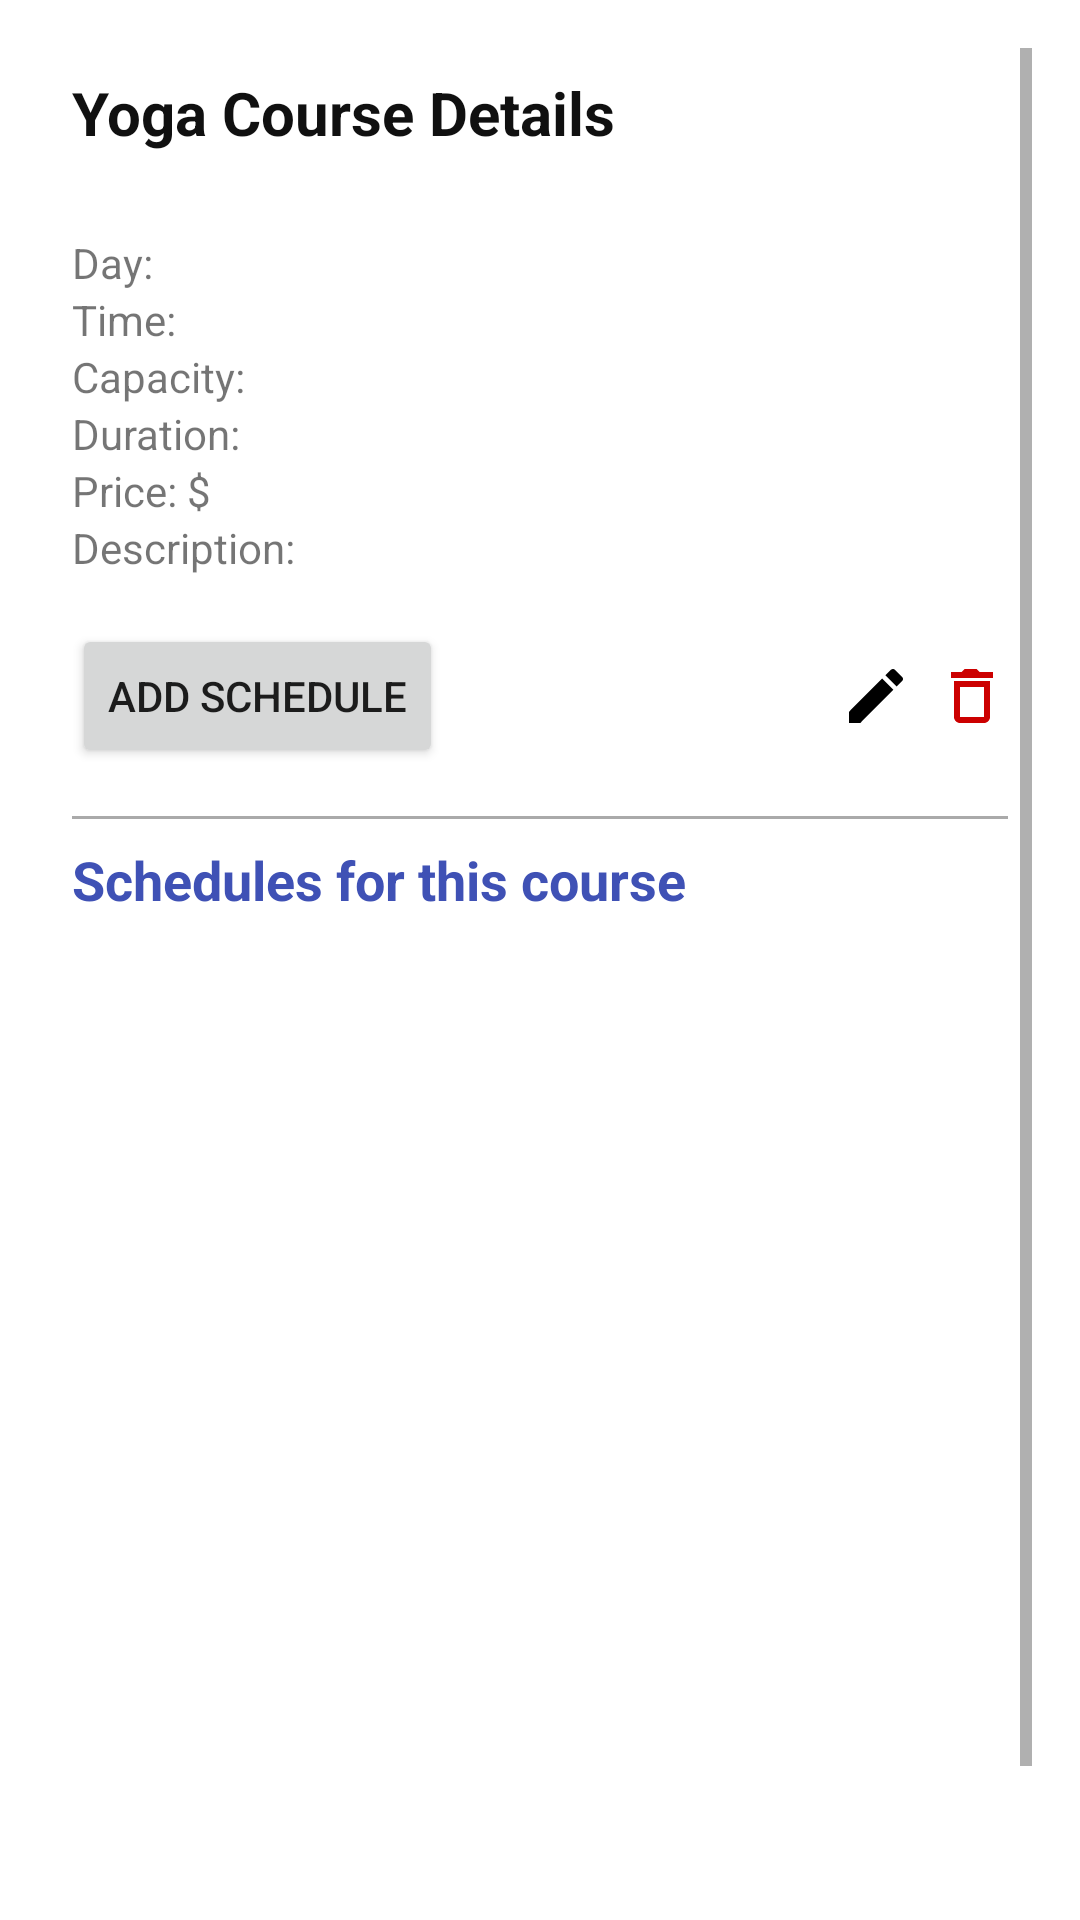

Named icons in this screenshot (1080x1920) and their bounding boxes, Rect(x1, y1, x2, y2):
Delete: Rect(951, 669, 993, 723)
Edit: Rect(849, 669, 903, 723)
